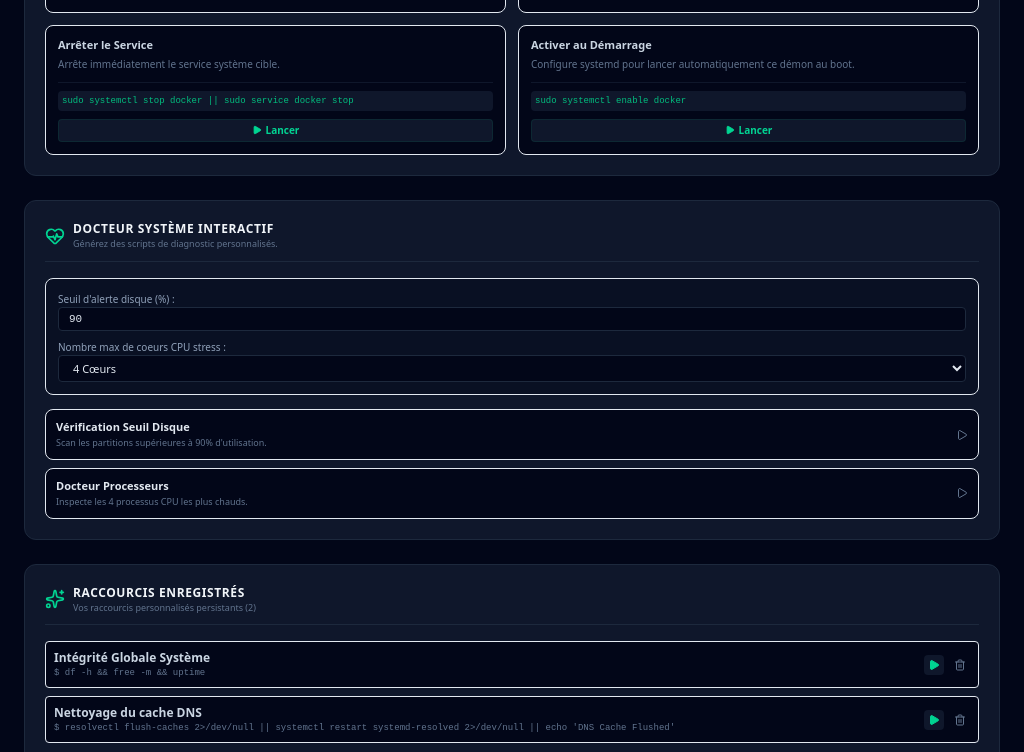
it: MaintenanceHub Component › met à jour le nombre de cœurs CPU du diagnostic
The image size is (1024, 752).
(page scrolled)
Select "8 Cœurs" in the dropdown: {"x": 512, "y": 369} [58,355,966,382]
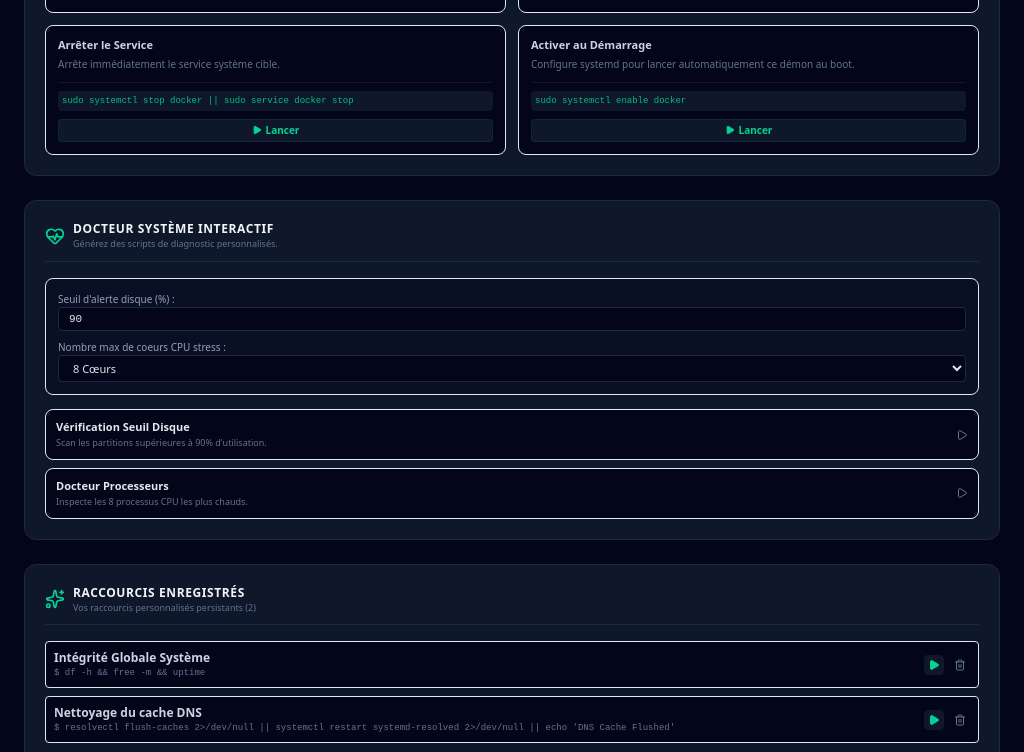
Result: the text "Inspecte les 8 processus CPU les plus chauds." is shown at [56,496,248,508]
